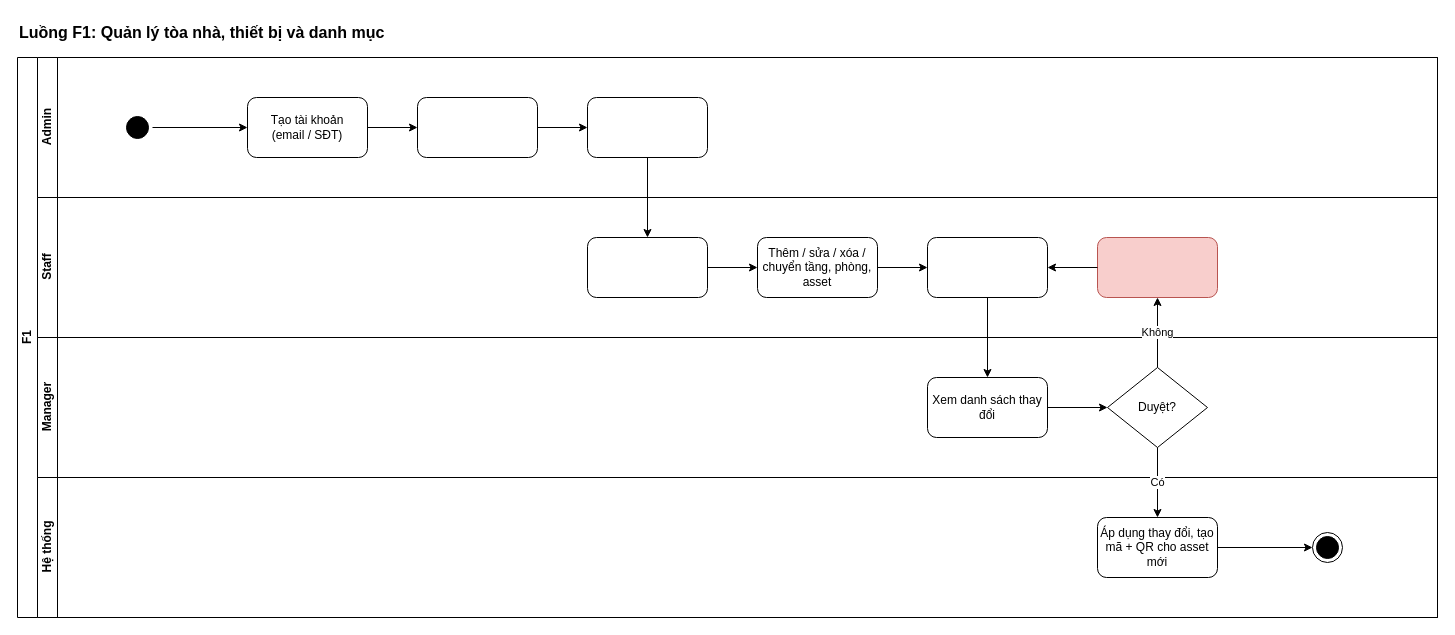
The diagram is 1455 pixels wide and 635 high, and some of its shapes have lost their labels. Each missing label, with the centre of its shape:
Gán Staff, Manager cho tòa nhà: the point at 477,127
Gửi duyệt: the point at 987,267
Quản lý danh mục (loại lỗi, loại asset, chuyên môn): the point at 647,127
Sửa lại theo lý do từ chối: the point at 1157,267
Tạo danh sách thay đổi trên cây tòa nhà: the point at 647,267
